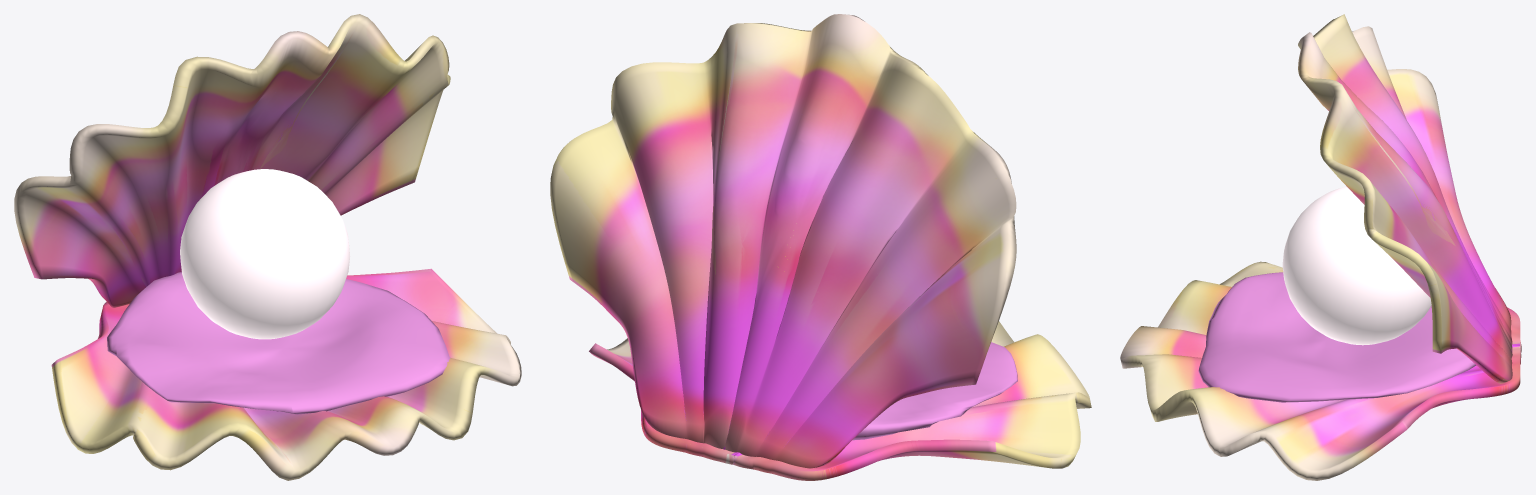
Rendered from seashell.glb.
3 renders of one model, left to right at view 1: azimuth 30°, elevation 25°; view 2: azimuth 150°, elevation 25°; view 3: azimuth 270°, elevation 25°, orthographic. The views are drawn at different scales.
Parts seen in each view (by area): view 1: shell_top, shell_bottom, shell_inner, pearl; view 2: shell_top, shell_bottom, shell_inner; view 3: shell_top, shell_bottom, shell_inner, pearl.
Part boxes in pixels (box(x1,y1,x2,y2)): shell_top: box(14, 14, 450, 307); shell_bottom: box(51, 268, 521, 480); shell_inner: box(107, 272, 450, 414); pearl: box(180, 169, 350, 339); shell_top: box(550, 14, 1016, 468); shell_bottom: box(589, 321, 1091, 480); shell_inner: box(852, 342, 1017, 440); shell_top: box(1298, 14, 1512, 383); shell_bottom: box(1120, 261, 1521, 480); shell_inner: box(1198, 272, 1476, 402); pearl: box(1282, 186, 1431, 345).
Bounding box in the file's own units: 0.2566 × 0.214 × 0.2224.
3 materials, 1 textured.
